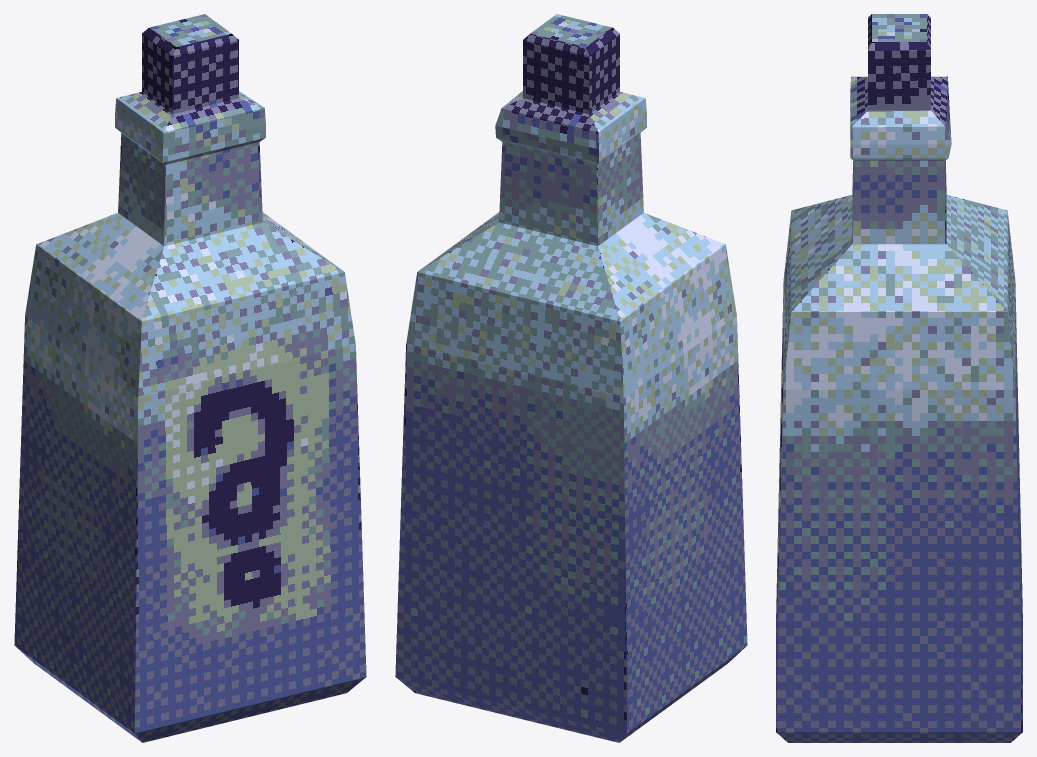
File: MedicineBottle.glb
3 views of the same model, side by side, from view 1: azimuth 30°, elevation 25°; view 2: azimuth 150°, elevation 25°; view 3: azimuth 270°, elevation 25° (orthographic). The views are drawn at different scales.
Visible parts, largest first — view 1: Cube; view 2: Cube; view 3: Cube.
Part boxes in pixels (<box>): Cube: <box>14,14,366,742</box>; Cube: <box>395,14,747,742</box>; Cube: <box>776,14,1022,742</box>.
Size of the model in its own units: 1.51 by 4.03 by 1.36.
1 material, 1 textured.
